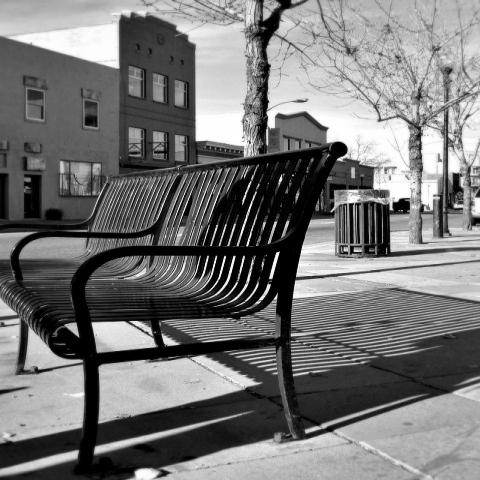car: (393, 198, 424, 213), (470, 196, 479, 226), (453, 200, 464, 211)
